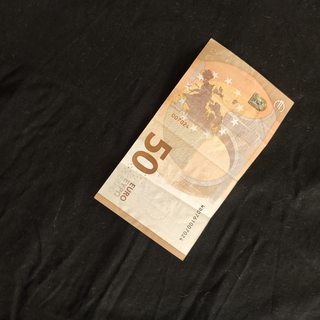50EUROBack: (92, 36, 296, 263)
